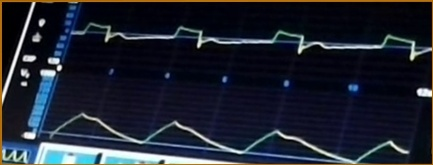Premature_cycling Flow: (75, 16, 432, 65)
Premature_cycling Volume: (48, 108, 410, 165)
